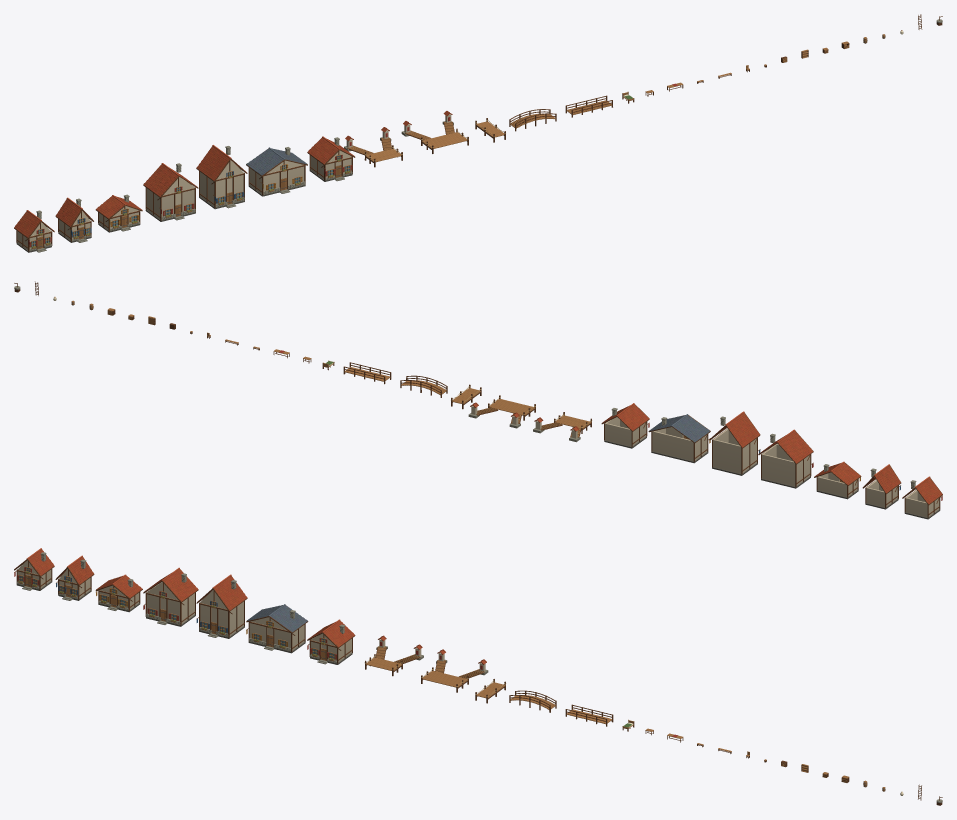
The model's file is concept_kit.glb.
3 views of the same model, one above another, from view 1: azimuth 30°, elevation 25°; view 2: azimuth 150°, elevation 25°; view 3: azimuth 330°, elevation 25° (orthographic).
Parts seen in each view (by area): view 1: HallB, HallA, HallC, BarnA, CottageC, CottageB, CottageA, DockB, DockA, BridgeA; view 2: HallB, HallA, HallC, BarnA, CottageC, CottageA, CottageB, DockB, DockA, BridgeA; view 3: HallB, HallA, HallC, BarnA, CottageC, CottageB, CottageA, DockB, DockA.
Part boxes in pixels (x1,y1,x2,y2): HallB: (196, 145, 247, 209); HallA: (143, 163, 198, 221); HallC: (246, 147, 307, 196); BarnA: (307, 136, 355, 181); CottageC: (95, 194, 142, 232); CottageB: (55, 197, 93, 242); CottageA: (14, 210, 54, 252); DockB: (401, 111, 468, 153); DockA: (344, 127, 402, 167); BridgeA: (509, 109, 556, 131); HallB: (709, 411, 760, 475); HallA: (758, 429, 813, 488); HallC: (648, 414, 710, 463); BarnA: (601, 403, 649, 448); CottageC: (814, 461, 861, 499); CottageA: (902, 476, 942, 519); CottageB: (862, 464, 901, 509); DockB: (468, 395, 535, 428); DockA: (533, 412, 592, 442); BridgeA: (400, 375, 447, 397); HallB: (196, 574, 247, 638); HallA: (143, 567, 198, 626); HallC: (246, 604, 308, 653); BarnA: (307, 619, 355, 664); CottageC: (95, 574, 142, 612); CottageB: (55, 555, 94, 600); CottageA: (14, 548, 54, 590); DockB: (421, 649, 488, 692); DockA: (364, 635, 423, 676).
Size of the model in its own units: 183 by 9.27 by 10.13.
